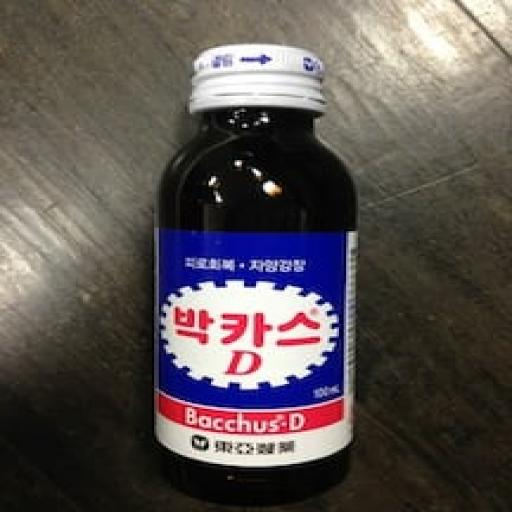glass: (153, 46, 362, 502)
